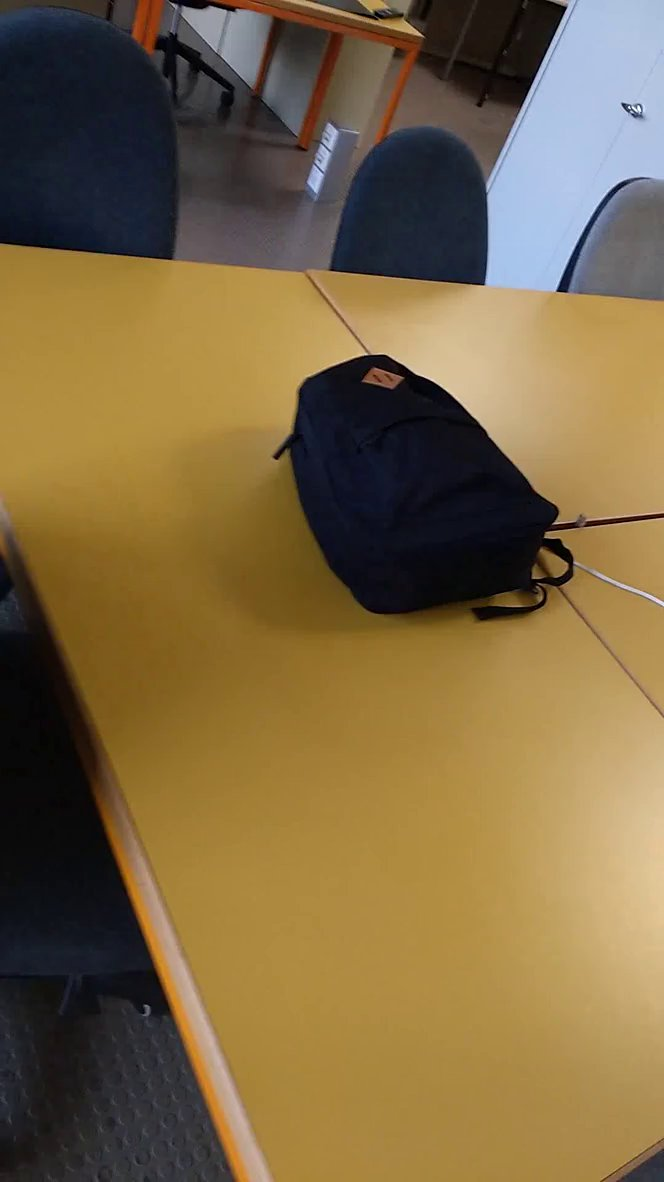bag: (263, 340, 593, 657)
chair: (2, 11, 191, 287), (320, 117, 503, 303), (554, 163, 664, 315)
